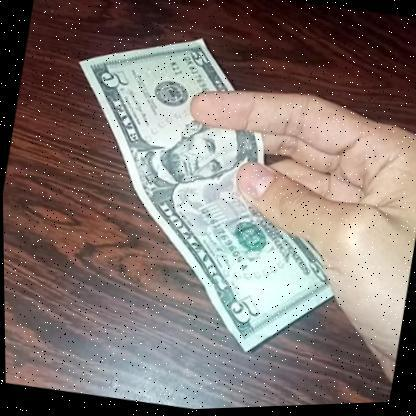dollar_front: (32, 10, 379, 378)
